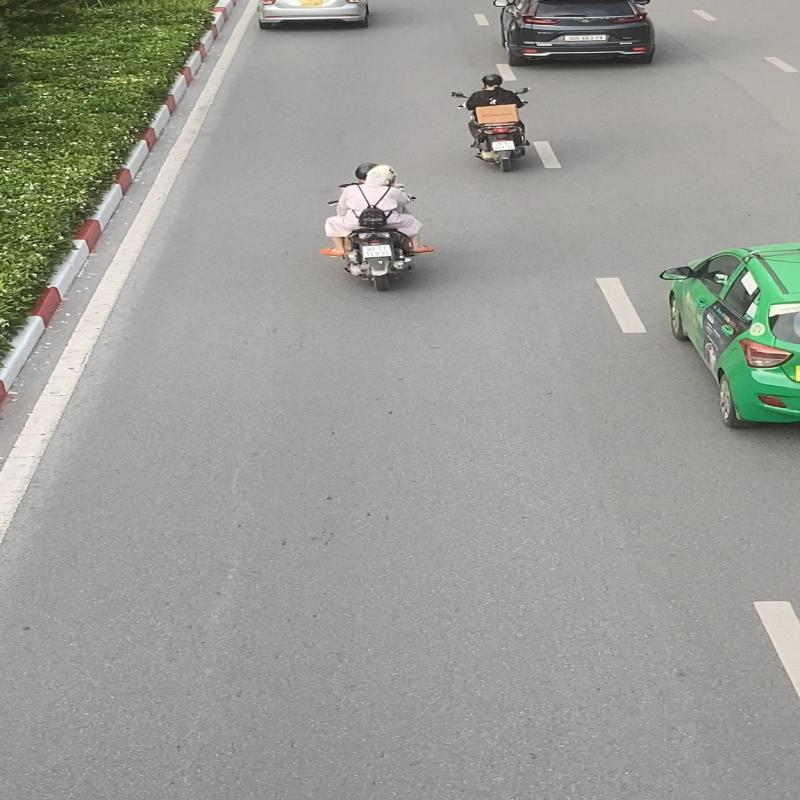helmet: (368, 166, 399, 180), (355, 163, 380, 180), (480, 73, 503, 85)
licenseplate: (362, 245, 392, 258), (492, 140, 515, 150)
motorcyclist: (316, 161, 438, 293), (447, 72, 534, 172)
